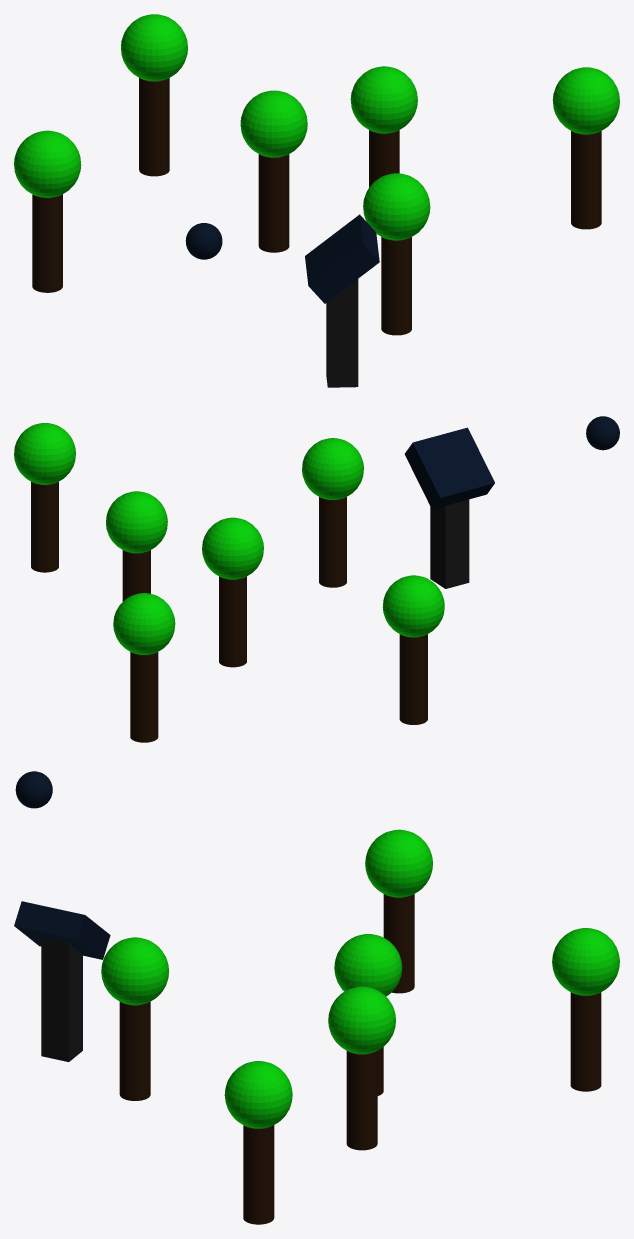
The model's file is exercise20014.obj.
The picture shows the model from 3 angles, top to bottom: view 1: azimuth 30°, elevation 25°; view 2: azimuth 150°, elevation 25°; view 3: azimuth 270°, elevation 25°; orthographic projection. The views are drawn at different scales.
Visible parts, largest first — view 1: Cube.001, Sphere.003, Sphere.005, Sphere, Sphere.002, Sphere.006, Sphere.004, Cube, Cylinder.002, Cylinder.003, Cylinder.004, Cylinder.005 (+4 smaller); view 2: Cube.001, Cube, Sphere.002, Sphere.006, Sphere, Sphere.005, Sphere.003, Sphere.004, Cylinder.005, Cylinder.006, Cylinder.002, Cylinder.003 (+4 smaller); view 3: Cube, Sphere.004, Sphere.005, Sphere.006, Sphere, Sphere.003, Sphere.002, Cube.001, Cylinder.005, Cylinder.003, Cylinder.004, Cylinder (+3 smaller).
Boxes of the visible parts, x1,y1,x2,y2 form: Cube.001: (305, 214, 379, 303); Sphere.003: (552, 67, 619, 134); Sphere.005: (121, 14, 187, 81); Sphere: (350, 66, 417, 133); Sphere.002: (240, 90, 307, 157); Sphere.006: (14, 130, 81, 197); Sphere.004: (363, 173, 430, 240); Cube: (326, 279, 358, 387); Cylinder.002: (258, 154, 289, 252); Cylinder.003: (571, 131, 601, 229); Cylinder.004: (381, 237, 411, 335); Cylinder.005: (139, 78, 169, 176); Cube.001: (404, 427, 494, 509); Cube: (430, 499, 469, 588); Sphere.002: (202, 517, 263, 579); Sphere.006: (382, 575, 444, 637); Sphere: (106, 491, 167, 553); Sphere.005: (113, 593, 175, 654); Sphere.003: (14, 423, 75, 484); Sphere.004: (302, 438, 363, 499); Cylinder.005: (130, 652, 158, 742); Cylinder.006: (399, 634, 427, 724); Cylinder.002: (219, 576, 246, 667); Cylinder.003: (31, 482, 58, 572); Cube: (41, 937, 82, 1061); Sphere.004: (101, 937, 169, 1005); Sphere.005: (552, 928, 619, 995); Sphere.006: (365, 829, 432, 897); Sphere: (328, 986, 395, 1054); Sphere.003: (224, 1061, 292, 1128); Sphere.002: (334, 934, 402, 996); Cube.001: (14, 901, 110, 959); Cylinder.005: (570, 992, 601, 1091); Cylinder.003: (243, 1125, 274, 1224); Cylinder.004: (119, 1001, 150, 1100); Cylinder: (346, 1051, 377, 1150).
Size of what is drawn, in the model's own units: 40.53 by 14.64 by 39.13.
